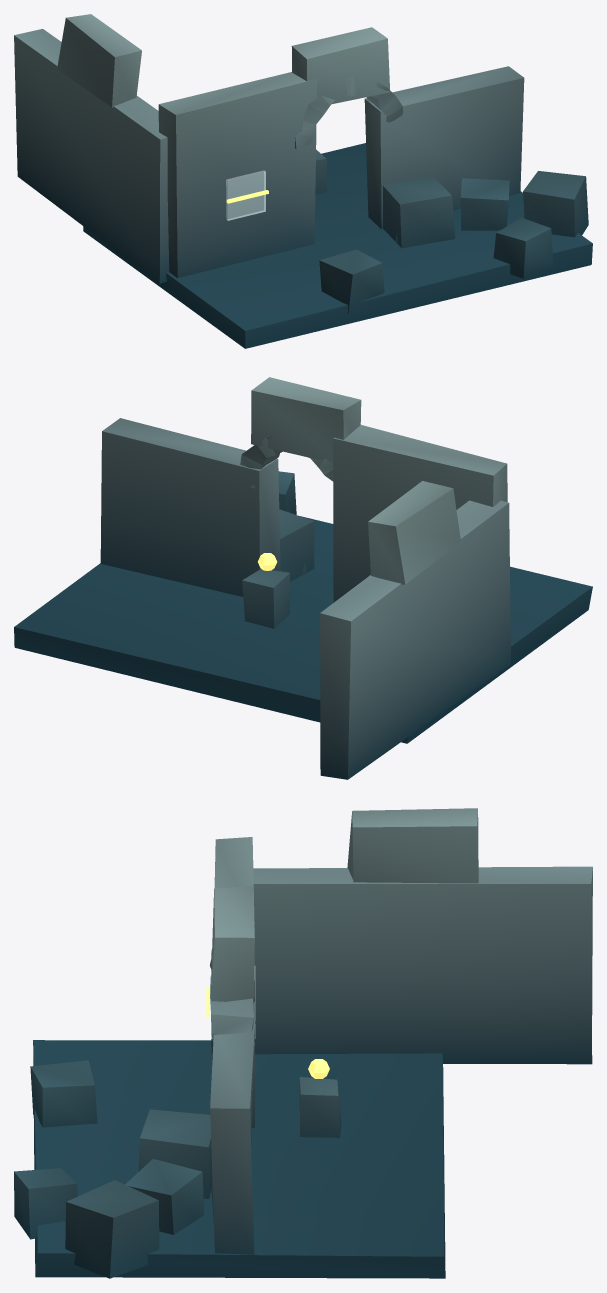
File: prop_dwelling_wall.glb
3 renders of one model, top to bottom at view 1: azimuth 30°, elevation 25°; view 2: azimuth 150°, elevation 25°; view 3: azimuth 270°, elevation 25°, orthographic. The views are drawn at different scales.
Visible parts, largest first — view 1: prop_dwelling_wall_stone, prop_dwelling_wall_glass; view 2: prop_dwelling_wall_stone; view 3: prop_dwelling_wall_stone.
Boxes of the visible parts, x1,y1,x2,y2 form: prop_dwelling_wall_stone: [14, 14, 592, 348]; prop_dwelling_wall_glass: [226, 170, 265, 220]; prop_dwelling_wall_stone: [14, 377, 592, 779]; prop_dwelling_wall_stone: [14, 808, 592, 1278].
Size of the model in its own units: 7.09 by 3.67 by 7.36.
